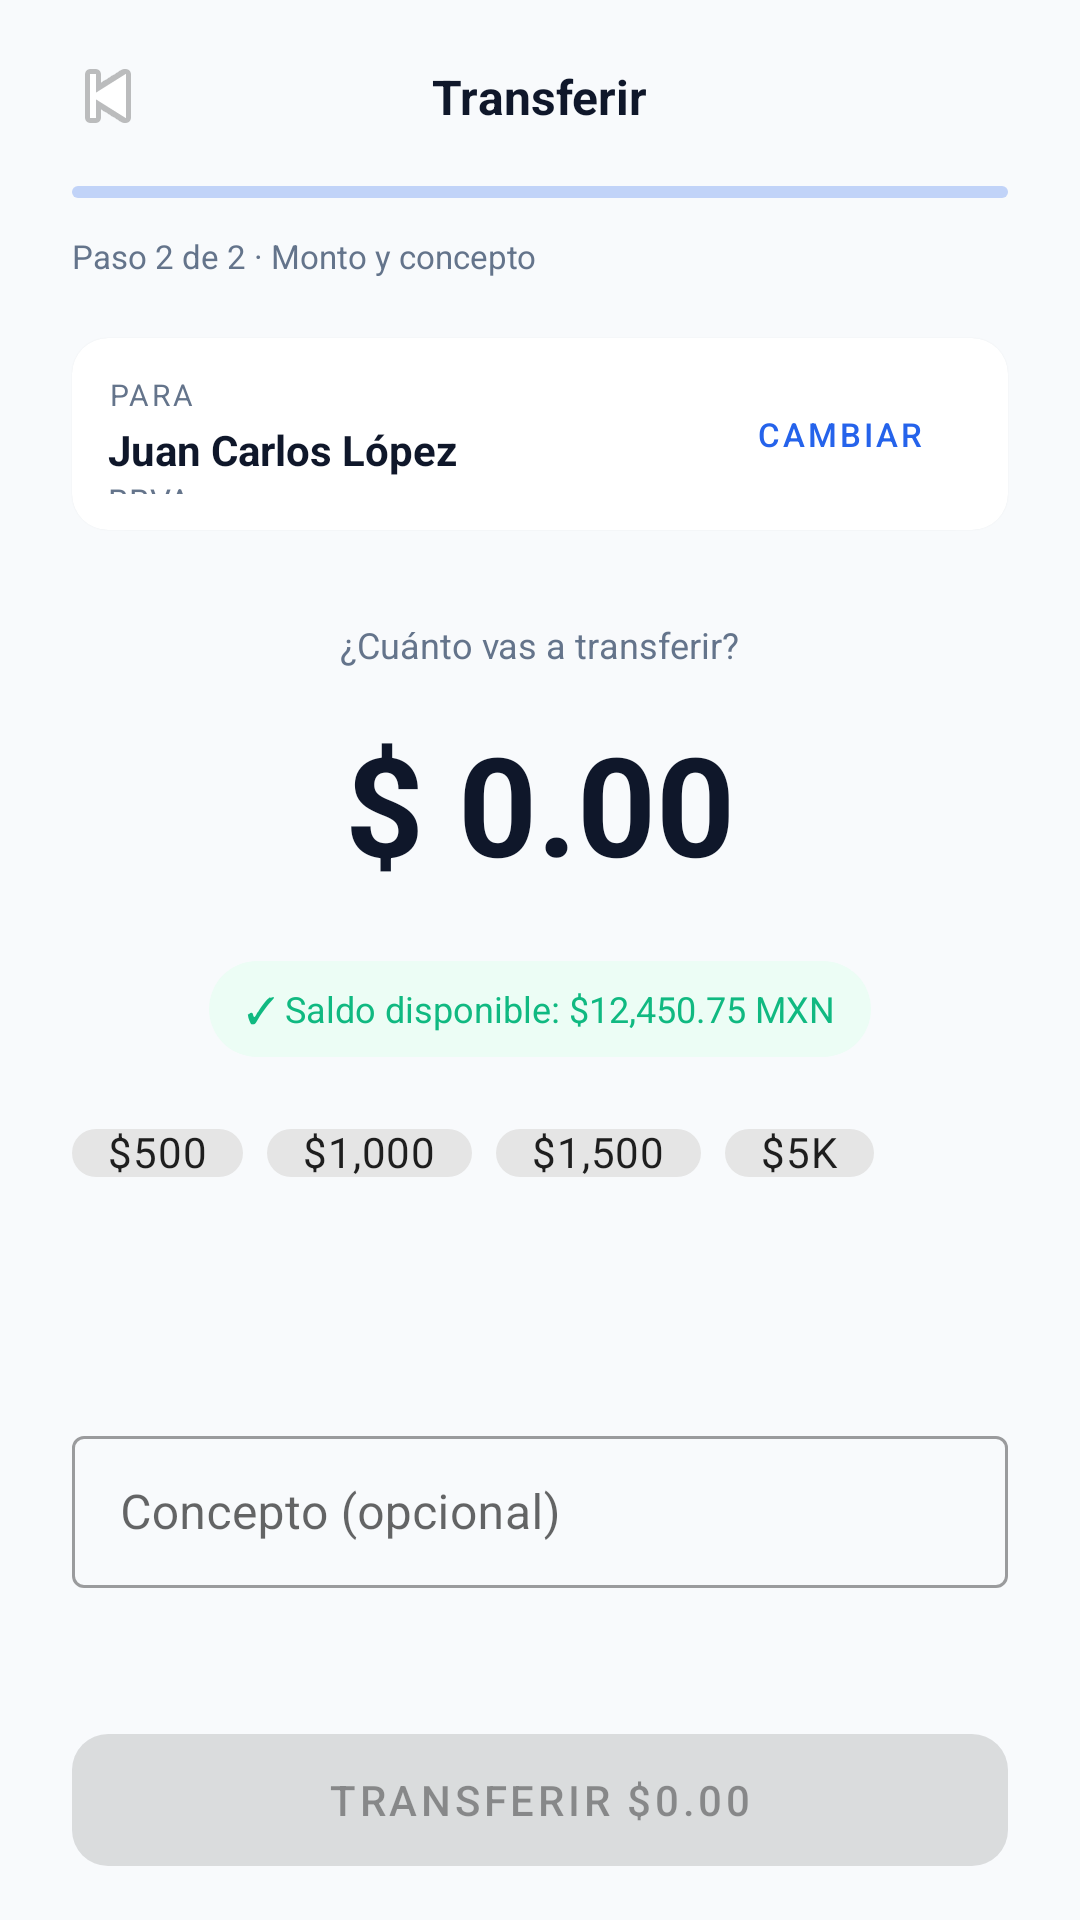

Icons on this 1080*1920 Android screen, each with the point to tap as [x,y]:
Regresar: [108,96]
